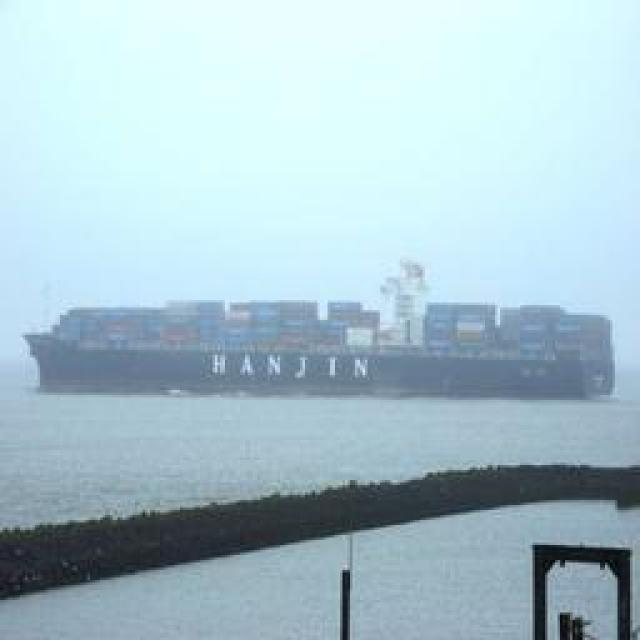Ship: (19, 295, 615, 398)
